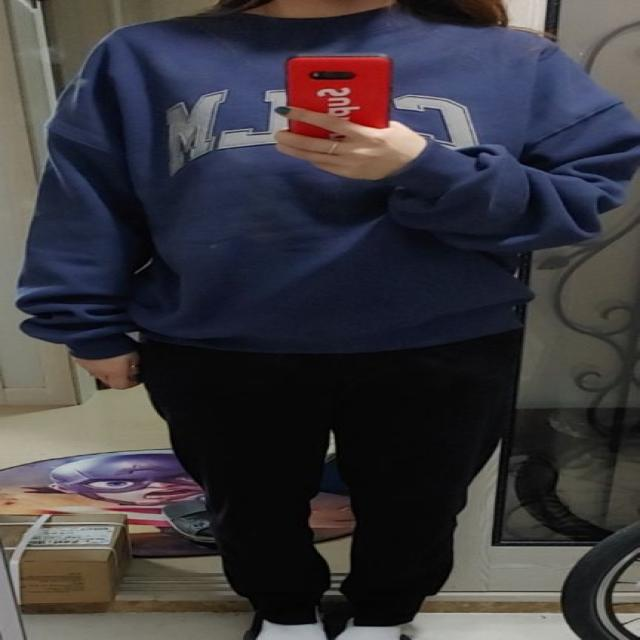mtm: (16, 0, 640, 360)
trainingpants: (141, 331, 526, 624)
